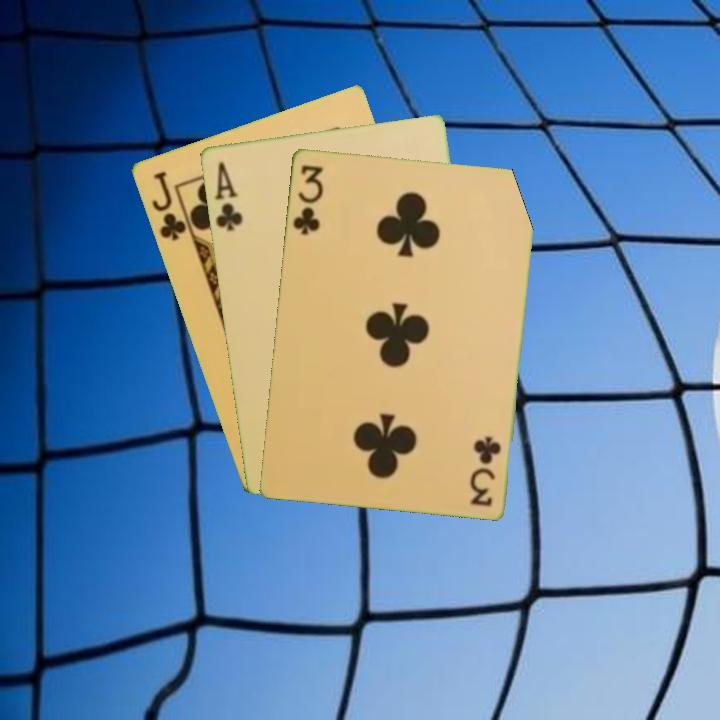3c: (289, 161, 326, 238), (468, 432, 504, 509)
Ac: (211, 158, 245, 234)
Jc: (147, 167, 194, 244)
